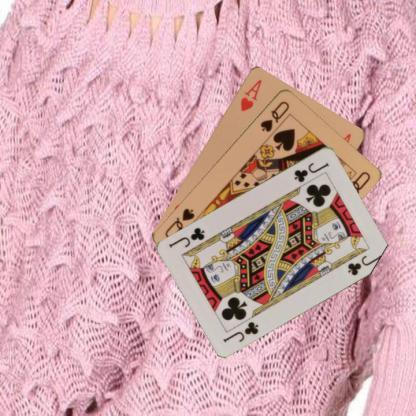Ah: (236, 76, 263, 113)
Jc: (220, 318, 260, 343), (291, 160, 331, 183)
Qs: (257, 98, 291, 134)
